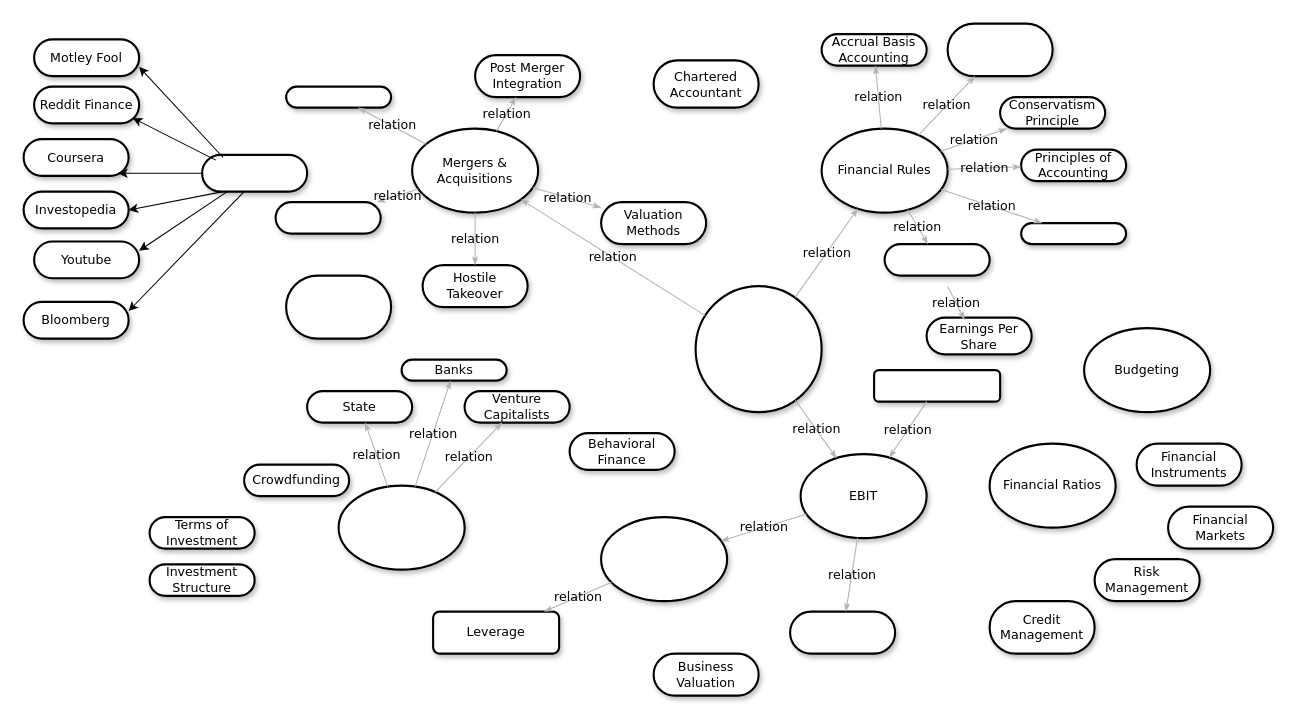
Some shapes in this 1298 by 721 pixel diagram are drawn without their labels. The shapes that lost their labels are listed below. From the top down, each one's centre as x and y in pixels, then its label:
At [1000,51]: "Materiality Principle".
At [339,98]: "Regulation".
At [255,174]: "Learning Sources".
At [328,219]: "Private Equity".
At [1074,234]: "IFRS".
At [937,261]: "GAAP".
At [339,308]: "Company Shareholder Statements".
At [759,350]: "CFO keywords".
At [937,387]: "EBITDA".
At [402,529]: "Funding".
At [664,560]: "Cashflow".
At [843,634]: "EBIT Margin".
